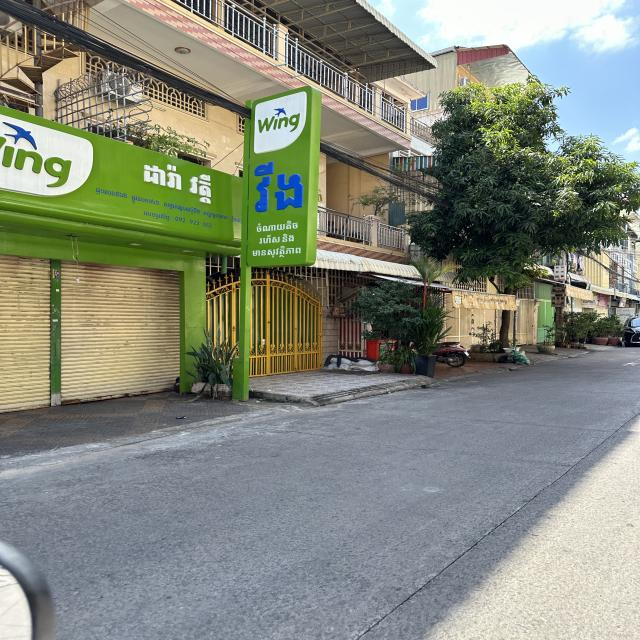1: (134, 154, 217, 212), (254, 233, 301, 247)
Yolov11kh: (247, 157, 309, 217), (249, 244, 305, 259), (252, 217, 301, 234)
